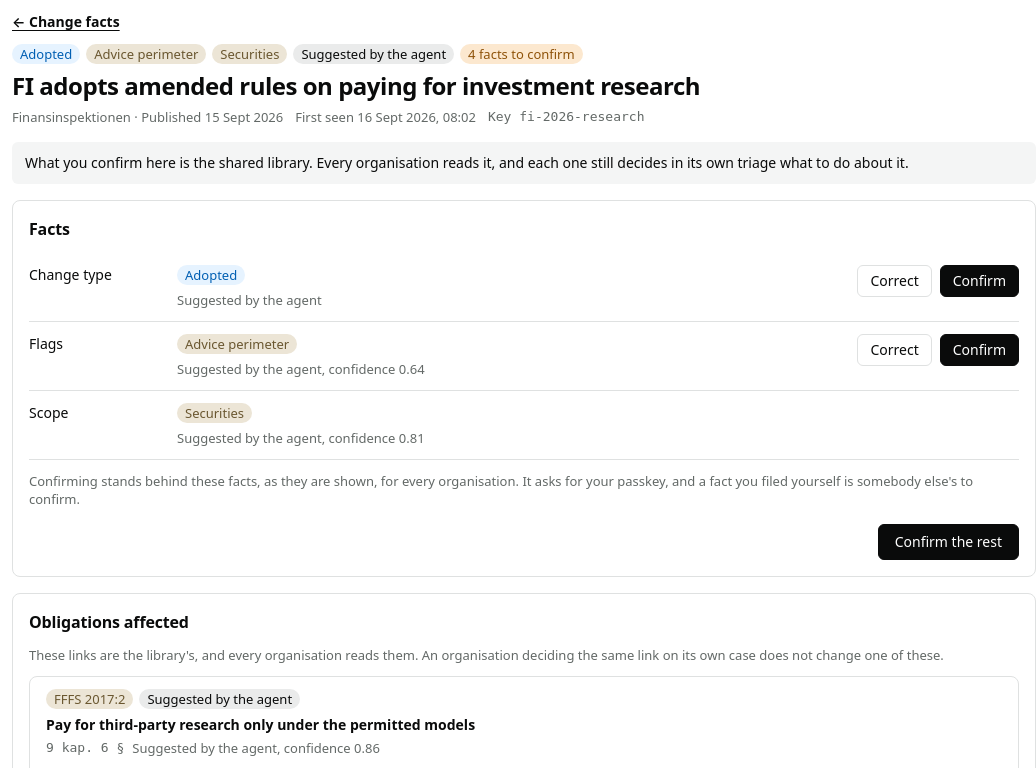
console change facts detail › reads a refusal from its code: a fact you filed yourself is somebody else’s to confirm
Expected: the heading "FI adopts amended rules on paying for investment research" is shown, [12,69,700,102]
Click the button "Confirm" in the row of "Change type": coordinates (979, 281) [940,265,1019,297]
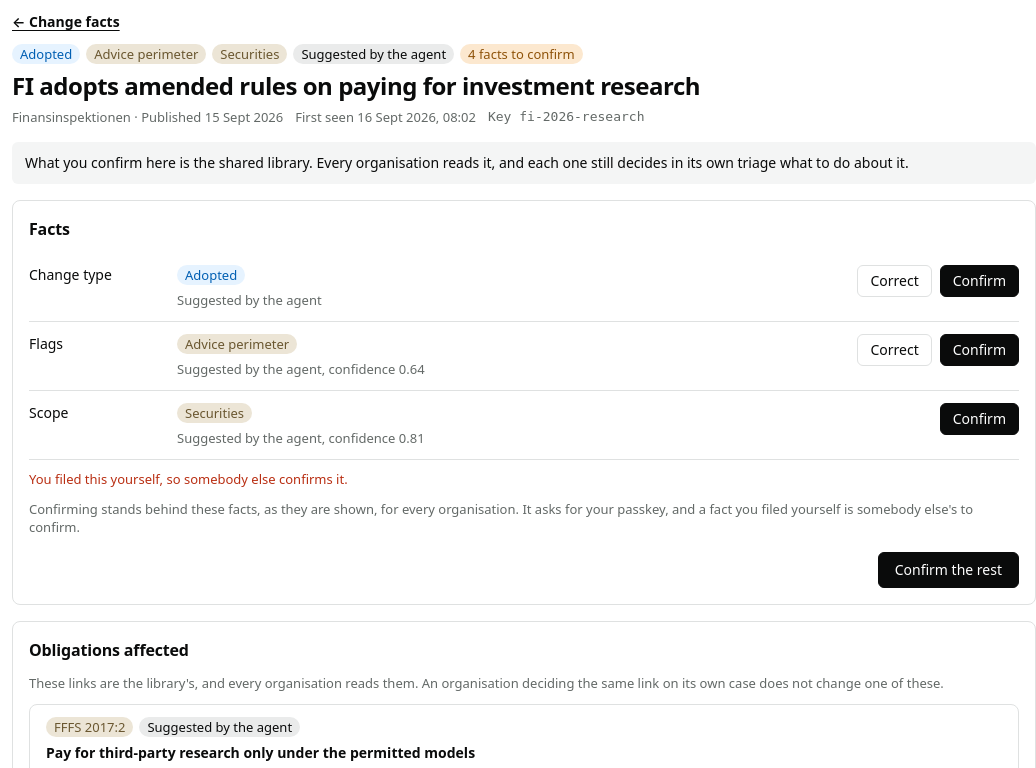
Expected: the message "You filed this yourself, so somebody else confirms it." does not show "You filed the type yourself.", [29,470,348,488]
Expected: the message "You filed this yourself, so somebody else confirms it." is shown, [29,470,348,488]
